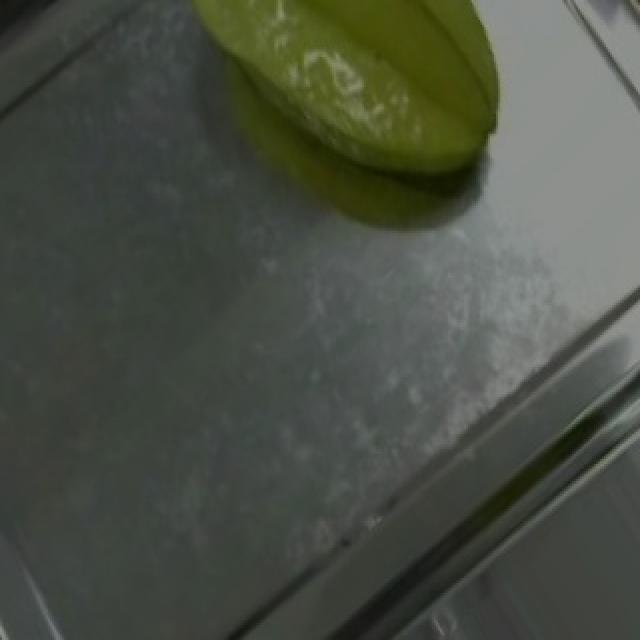fruit: (184, 0, 554, 256)
